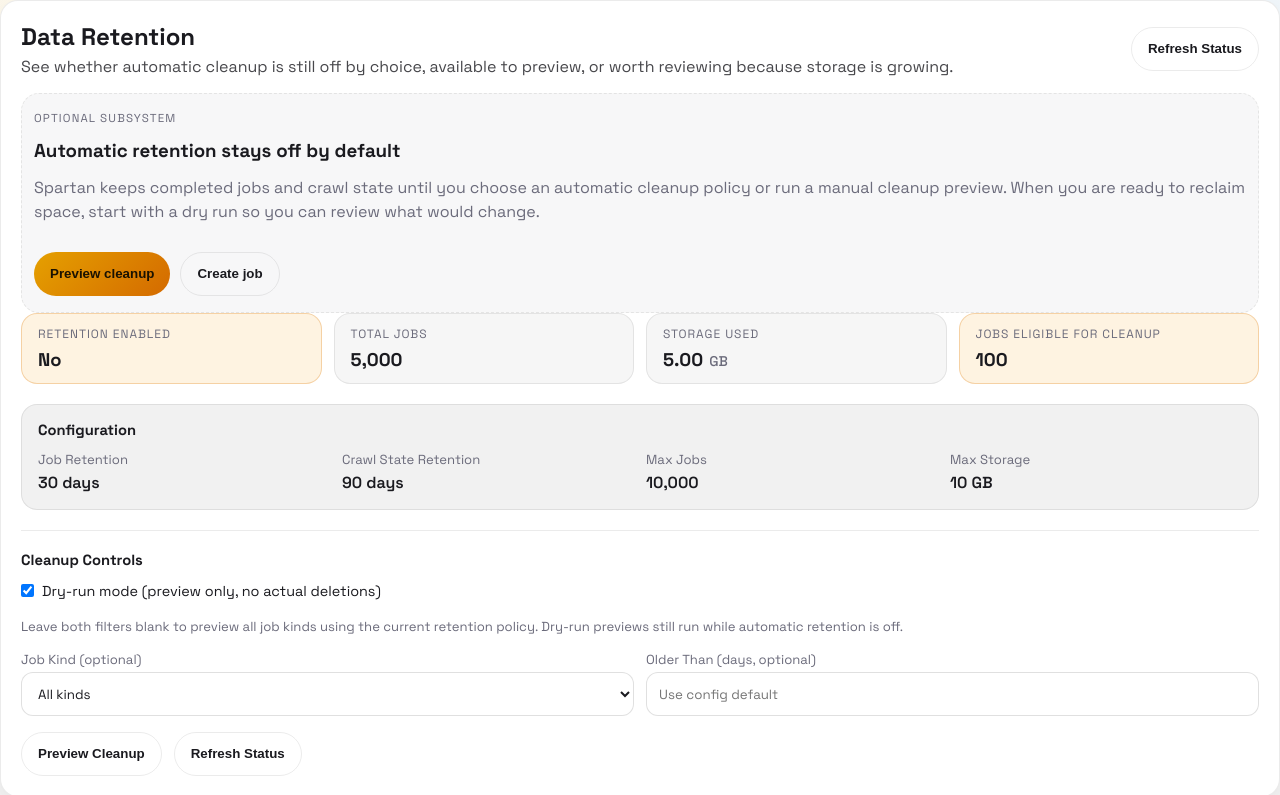
RetentionStatusPanel › documents blank filters and forces dry-run previews when retention is disabled
Expected: the text "leave both filters blank to preview all job kinds using the current retention policy" is shown, [21,618,538,635]
Click the button "Preview cleanup". click: {"x": 102, "y": 274}
box: [34,252,170,296]
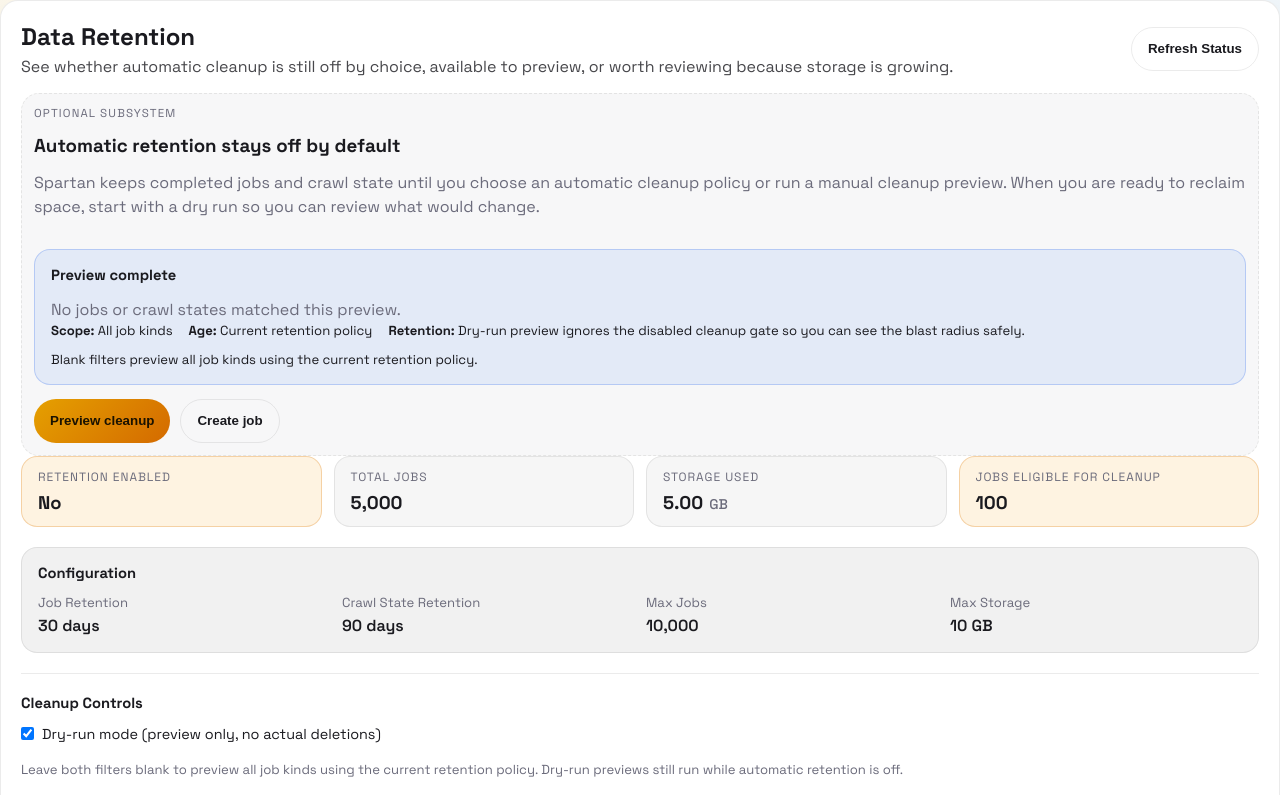
Now the text "No jobs or crawl states matched this preview." is shown, box [51,299,401,320]
